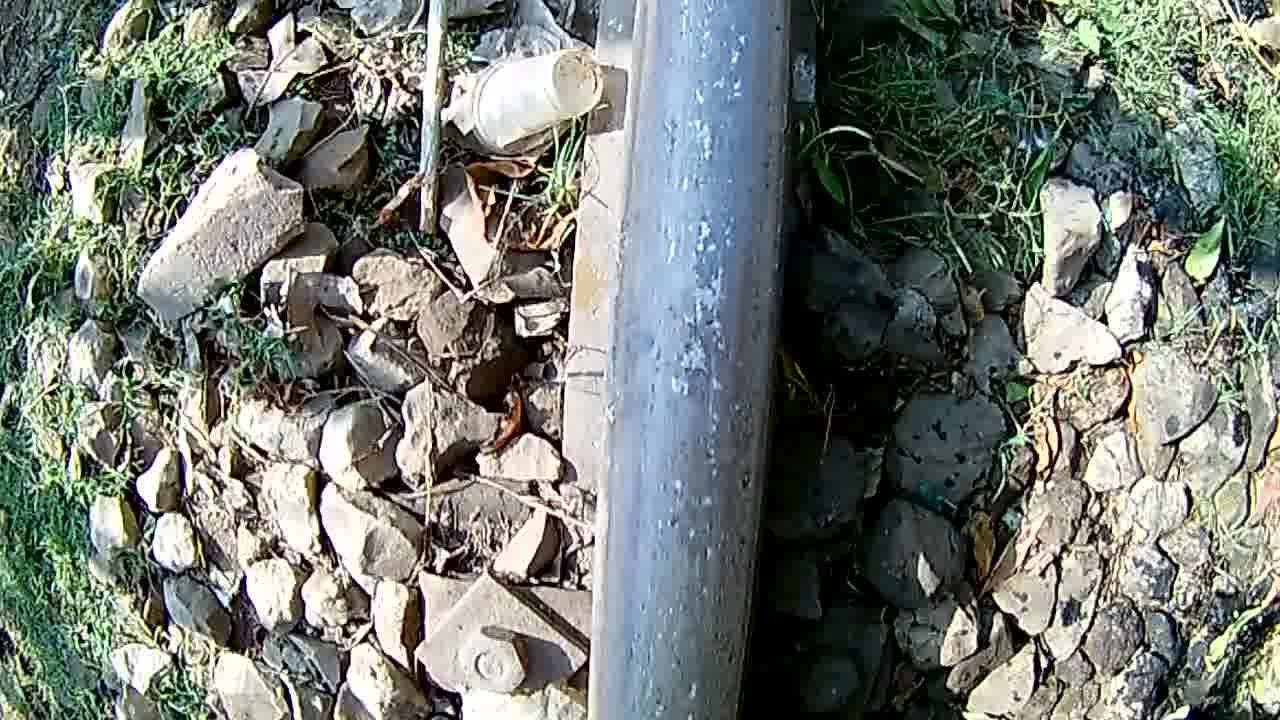crack: (590, 3, 796, 720)
